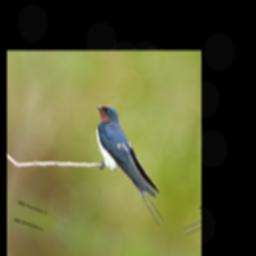Swallow: (74, 100, 186, 228)
